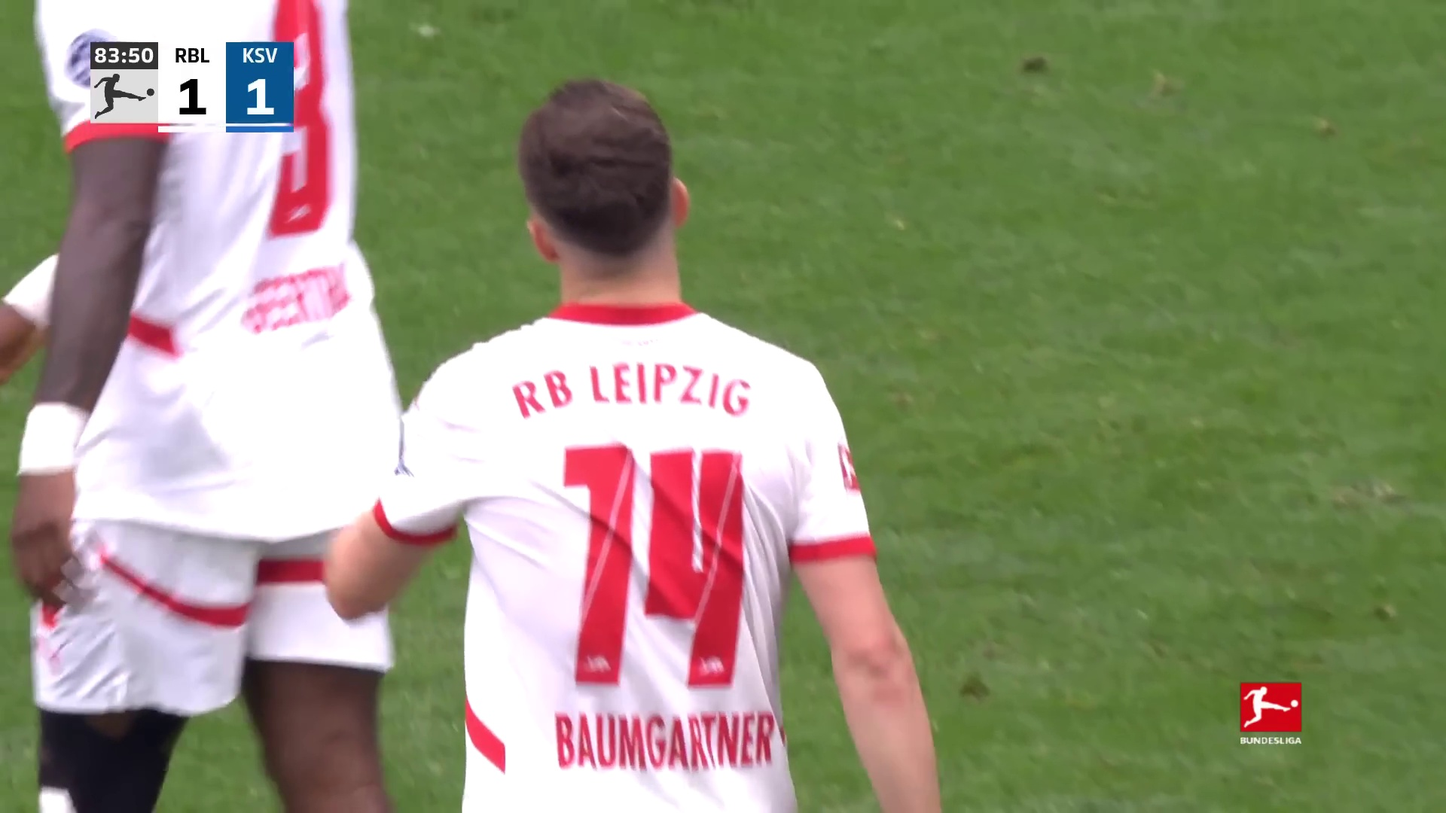player: (319, 70, 962, 813), (0, 2, 419, 812)
